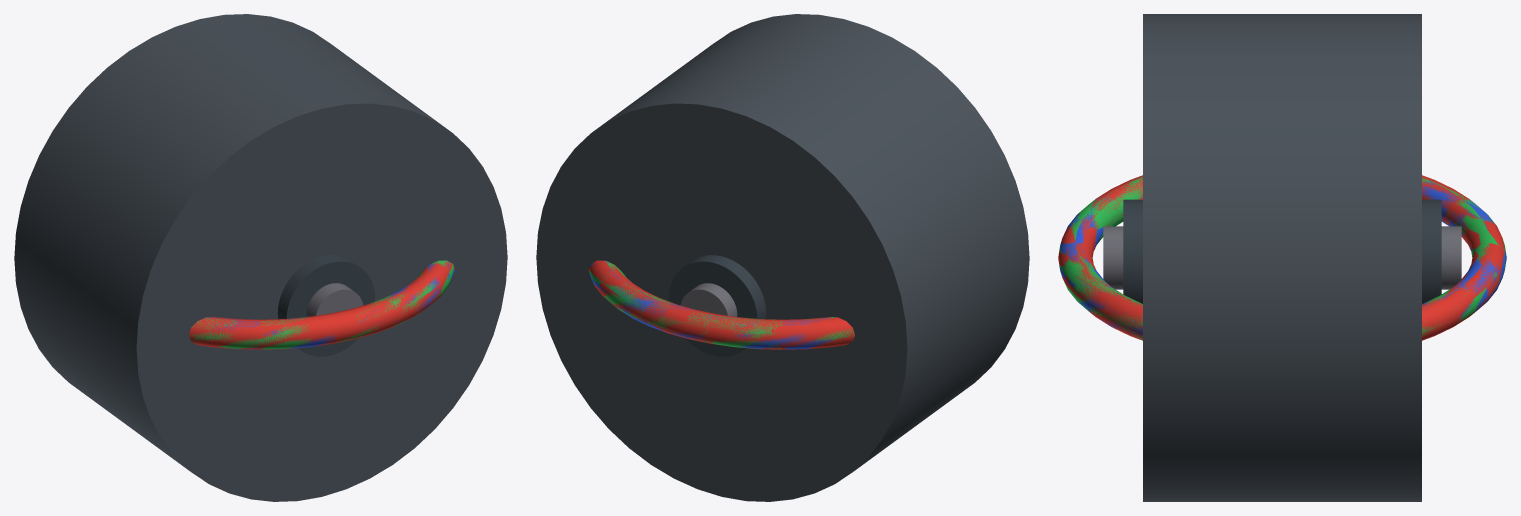
The model's file is induction_motor.glb.
3 views of the same model, side by side, from view 1: azimuth 30°, elevation 25°; view 2: azimuth 150°, elevation 25°; view 3: azimuth 270°, elevation 25° (orthographic). The views are drawn at different scales.
Parts seen in each view (by area): view 1: Stator_Body, Stator_Coil_0, Stator_End_Front, Stator_Coil_1, Rotor_Shaft, Stator_Coil_2; view 2: Stator_Body, Stator_Coil_0, Stator_End_Back, Stator_Coil_1, Stator_Coil_2, Rotor_Shaft; view 3: Stator_Body, Stator_Coil_0, Stator_Coil_1, Stator_Coil_2, Rotor_Shaft, Stator_End_Front, Stator_End_Back.
Boxes of the visible parts, left/top/right/bottom form: Stator_Body: left=14, top=14, right=507, bottom=501; Stator_Coil_0: left=189, top=261, right=454, bottom=349; Stator_End_Front: left=277, top=255, right=375, bottom=356; Stator_Coil_1: left=190, top=260, right=453, bottom=349; Rotor_Shaft: left=306, top=283, right=363, bottom=316; Stator_Coil_2: left=203, top=261, right=455, bottom=349; Stator_Body: left=536, top=14, right=1029, bottom=501; Stator_Coil_0: left=588, top=260, right=854, bottom=349; Stator_End_Back: left=668, top=255, right=766, bottom=356; Stator_Coil_1: left=588, top=261, right=854, bottom=349; Stator_Coil_2: left=589, top=261, right=833, bottom=349; Rotor_Shaft: left=680, top=283, right=737, bottom=316; Stator_Body: left=1143, top=14, right=1421, bottom=501; Stator_Coil_0: left=1058, top=175, right=1506, bottom=340; Stator_Coil_1: left=1059, top=176, right=1506, bottom=339; Stator_Coil_2: left=1059, top=181, right=1506, bottom=336; Rotor_Shaft: left=1103, top=226, right=1461, bottom=289; Stator_End_Front: left=1123, top=199, right=1142, bottom=303; Stator_End_Back: left=1422, top=199, right=1441, bottom=303.
Bounding box in the file's own units: 1.84 × 1.84 × 1.69.
